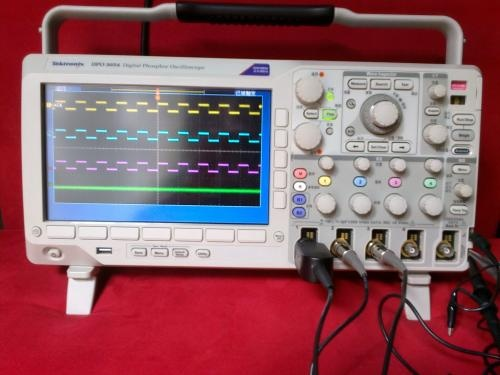Oscilloscope: (7, 1, 480, 332)
